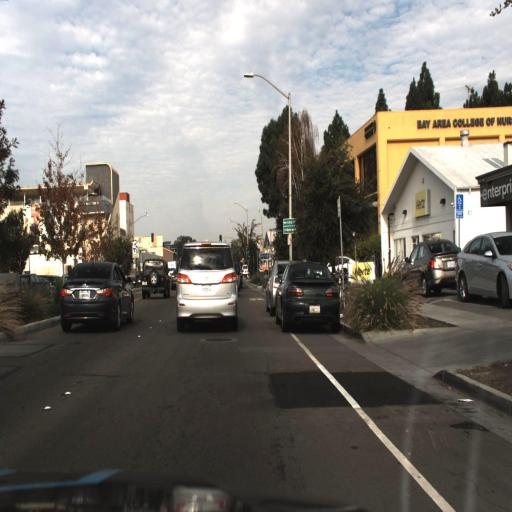car: (166, 226, 249, 341), (51, 251, 137, 346), (270, 259, 346, 346), (174, 239, 238, 329), (453, 225, 510, 311), (398, 225, 461, 294), (132, 244, 174, 311), (326, 244, 365, 288), (263, 255, 279, 318)
